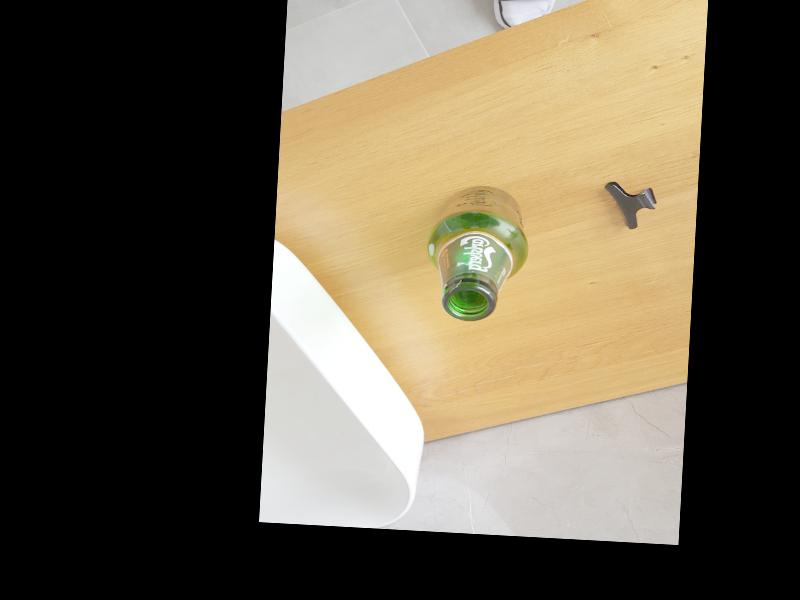Beer: (422, 183, 531, 323)
